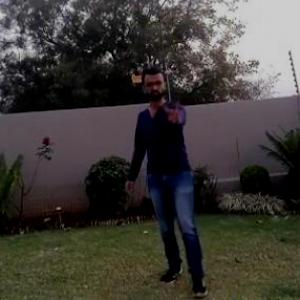takeoff-hand: (160, 101, 189, 128)
